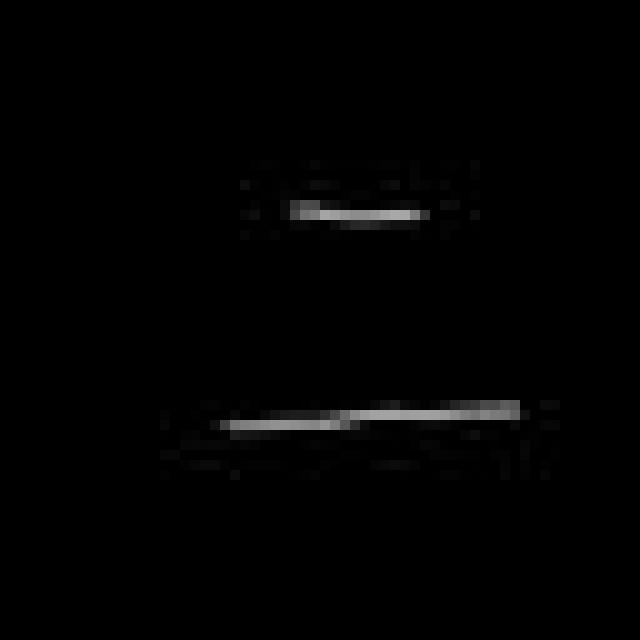2 -two-: (198, 178, 552, 476)
